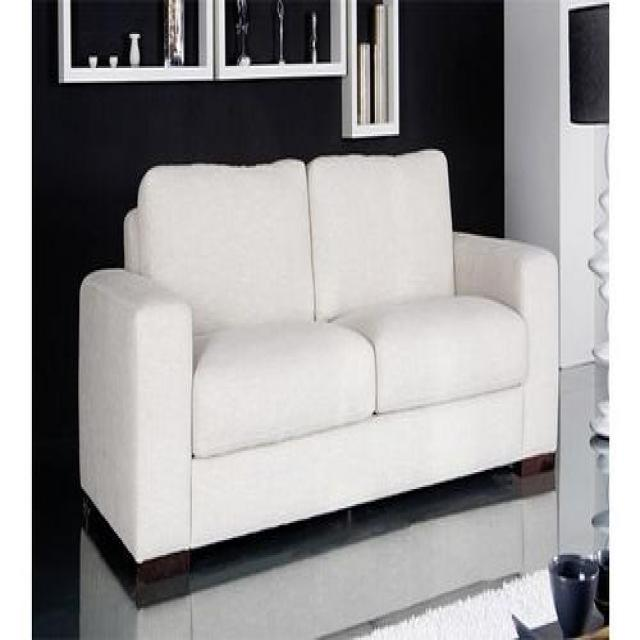sofa: (78, 147, 561, 573)
